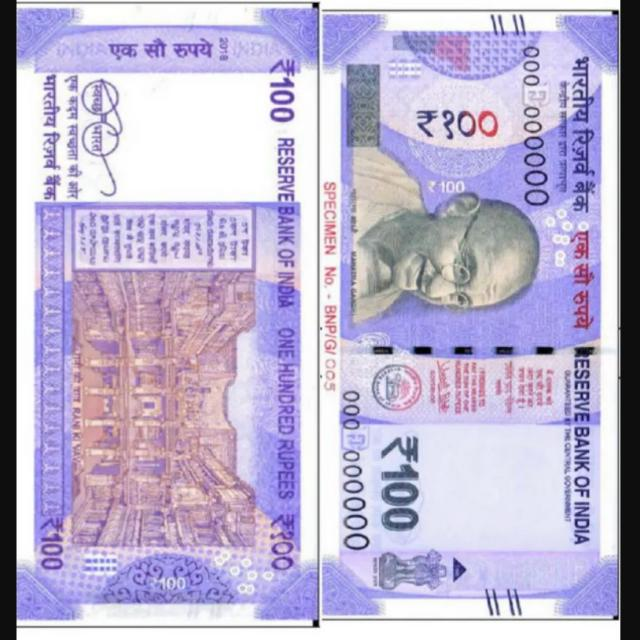100IndianRupees: (15, 3, 312, 620), (16, 4, 314, 617), (317, 16, 604, 378), (318, 377, 622, 626)
